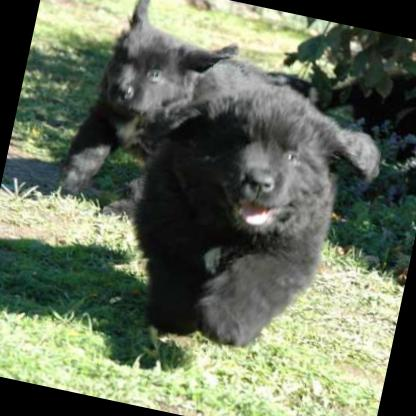Newfoundland: (108, 62, 390, 370), (49, 0, 286, 242)
